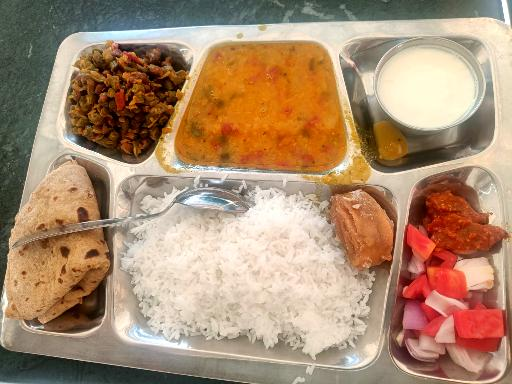Curd: (371, 32, 495, 129)
Dal: (202, 38, 338, 174)
Pickle: (422, 188, 509, 247)
Rice: (128, 183, 387, 359)
Roti: (7, 163, 108, 333)
Salad: (400, 259, 500, 369)
Sweet: (338, 187, 396, 272)
Vegetable: (68, 37, 165, 157)
